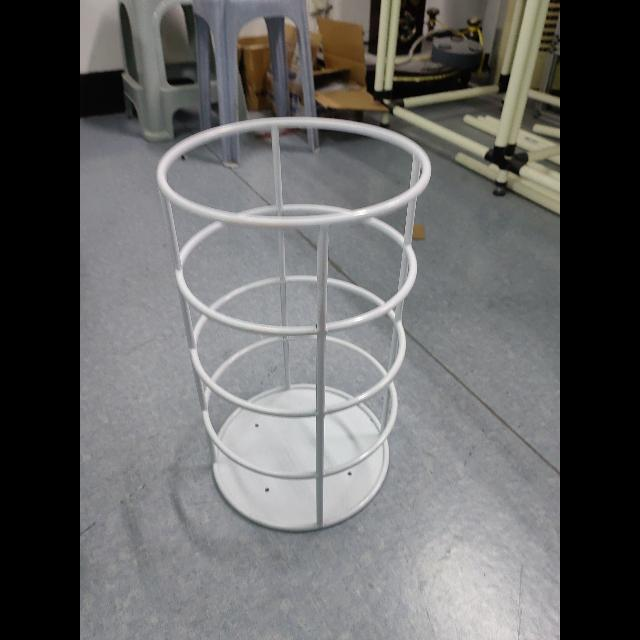S: (156, 114, 432, 536)
